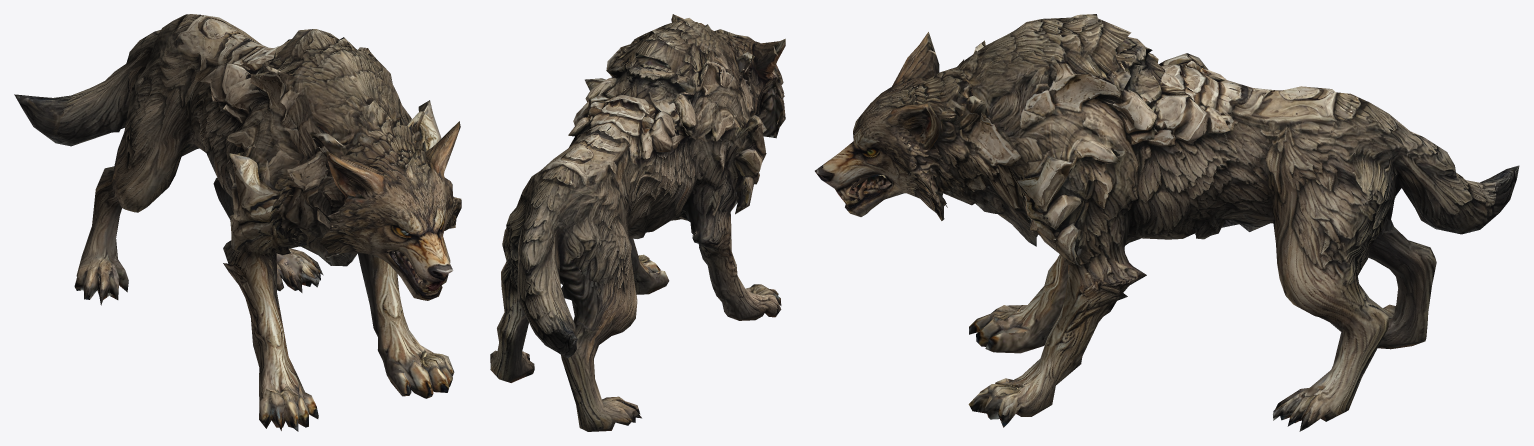
Rendered from Wolf.glb.
The picture shows the model from 3 angles, left to right: view 1: azimuth 30°, elevation 25°; view 2: azimuth 150°, elevation 25°; view 3: azimuth 270°, elevation 25°; orthographic projection. The views are drawn at different scales.
Parts seen in each view (by area): view 1: texture_mapping; view 2: texture_mapping; view 3: texture_mapping.
Part boxes in pixels (x1,y1,x2,y2): texture_mapping: (14, 14, 461, 431); texture_mapping: (490, 14, 785, 431); texture_mapping: (815, 14, 1519, 431).
Bounding box in the file's own units: 0.3591 × 0.5698 × 0.9958.
1 material, 1 textured.
